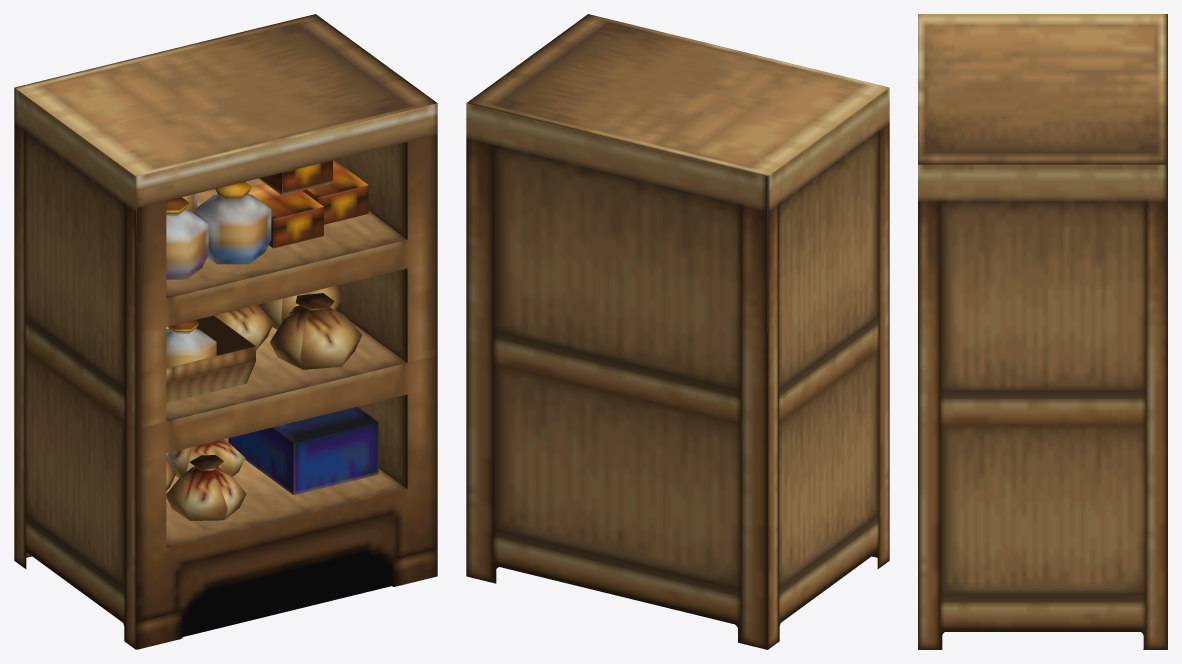
The model's file is Inside_Poly_Shelf_10.obj.
3 views of the same model, side by side, from view 1: azimuth 30°, elevation 25°; view 2: azimuth 150°, elevation 25°; view 3: azimuth 270°, elevation 25° (orthographic). The views are drawn at different scales.
Visible parts, largest first — view 1: Cube.003; view 2: Cube.003; view 3: Cube.003.
Boxes of the visible parts, x1=… form: Cube.003: x1=14, y1=14, x2=437, y2=649; Cube.003: x1=466, y1=14, x2=889, y2=649; Cube.003: x1=918, y1=14, x2=1167, y2=649.
Size of the model in its own units: 1 by 1.5 by 0.7.
1 material, 1 textured.
